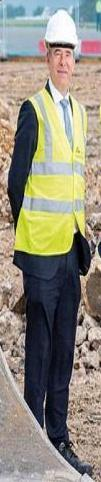hat: (27, 1, 101, 62)
vest: (10, 71, 94, 291)
